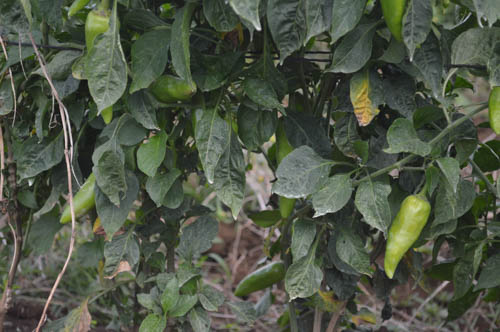ChiliPepper: (83, 14, 123, 122), (385, 192, 433, 281), (272, 121, 303, 220), (59, 173, 102, 221), (235, 258, 284, 298), (151, 70, 197, 103)
